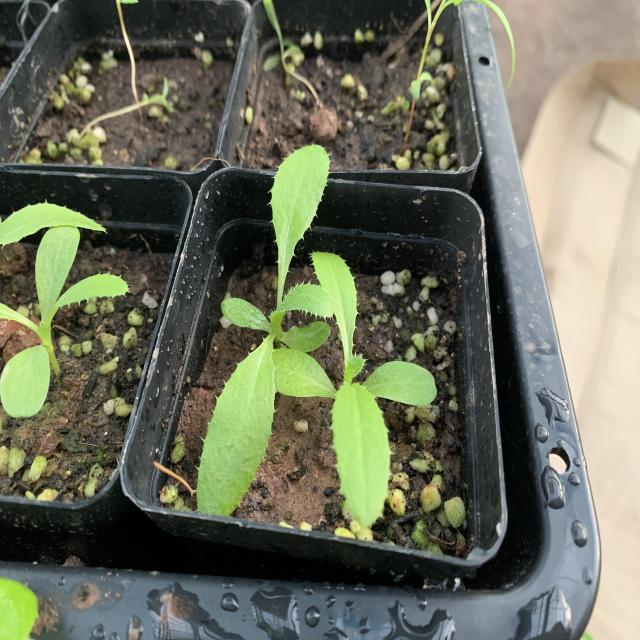field_thistle: (210, 143, 410, 515)
